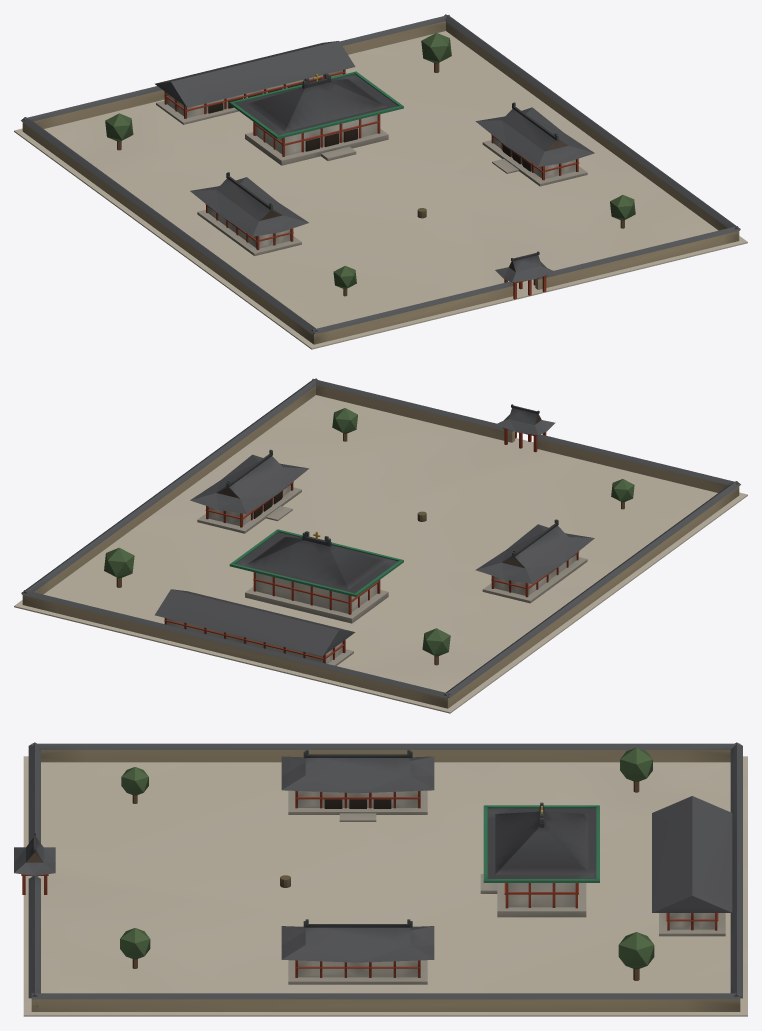
Rendered from daqin-monastery.glb.
3 views of the same model, one above another, from view 1: azimuth 30°, elevation 25°; view 2: azimuth 150°, elevation 25°; view 3: azimuth 270°, elevation 25° (orthographic). The views are drawn at different scales.
Parts seen in each view (by area): view 1: p0_walls, p2_trees, p1_halls; view 2: p0_walls, p2_trees, p1_halls; view 3: p0_walls, p2_trees, p1_halls.
Part boxes in pixels (left/top/right/bottom): p0_walls: left=14, top=14, right=747, bottom=349; p2_trees: left=105, top=33, right=635, bottom=296; p1_halls: left=156, top=69, right=587, bottom=299; p0_walls: left=14, top=378, right=747, bottom=713; p2_trees: left=104, top=408, right=634, bottom=665; p1_halls: left=164, top=404, right=587, bottom=665; p0_walls: left=23, top=742, right=747, bottom=1016; p2_trees: left=120, top=747, right=732, bottom=980; p1_halls: left=14, top=790, right=725, bottom=984.
Size of the model in its own units: 110 by 16 by 132.
